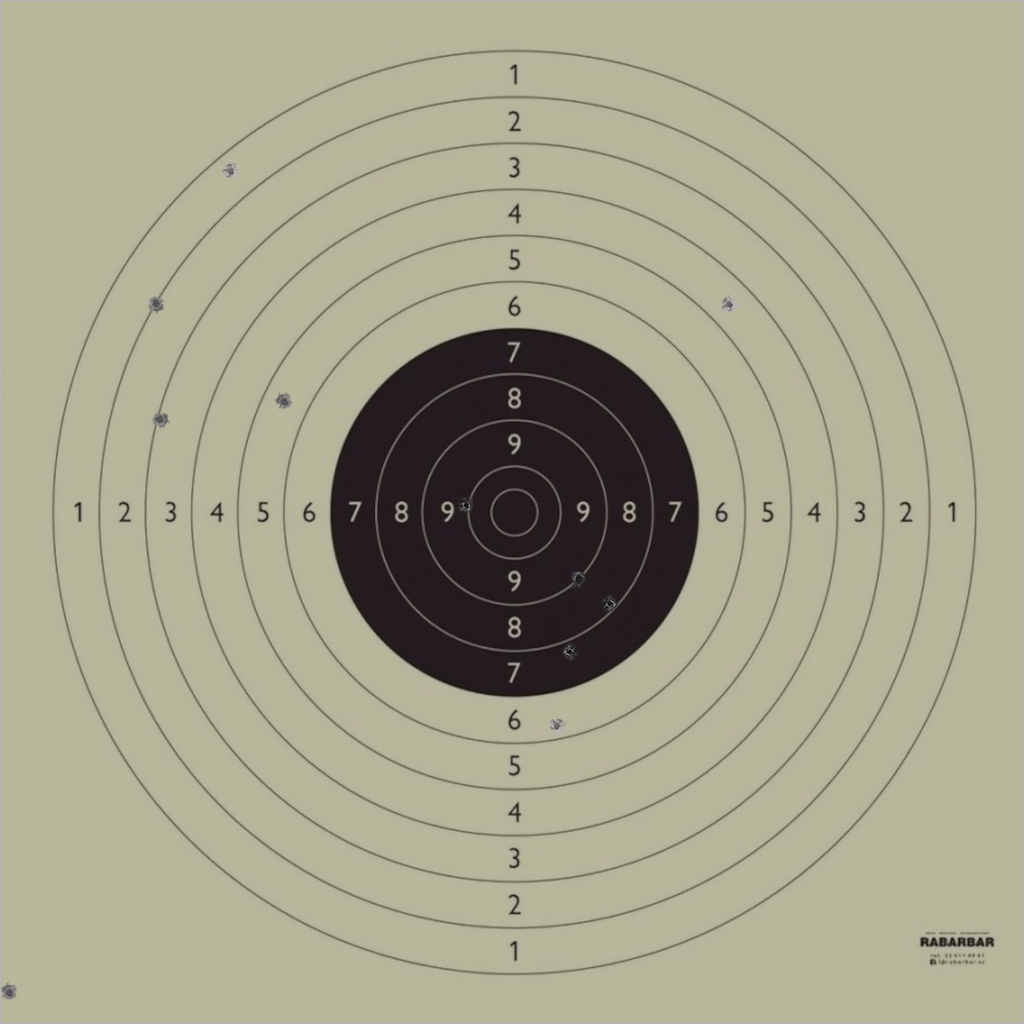0 punktow: (0, 983, 19, 1002)
1 punkt: (221, 162, 240, 181)
10 punktow: (457, 497, 476, 515)
2 punkty: (147, 295, 165, 313)
3 punkty: (151, 410, 169, 429)
4 punkty: (720, 295, 738, 314)
5 punktow: (275, 392, 293, 411)
6 punktow: (548, 717, 566, 735)
7 punktow: (560, 643, 579, 661)
8 punktow: (601, 595, 619, 613)
9 punktow: (569, 570, 588, 588)
